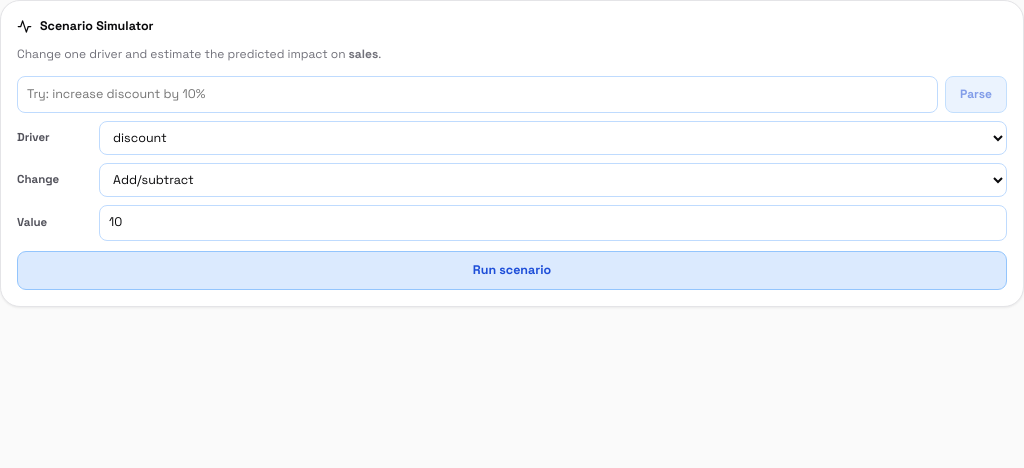
Test case: ScenarioSimulatorCard Component › runs scenario simulation and displays baseline vs scenario impact
Click the button "Run scenario" at (512,270), box [17, 250, 1007, 290]
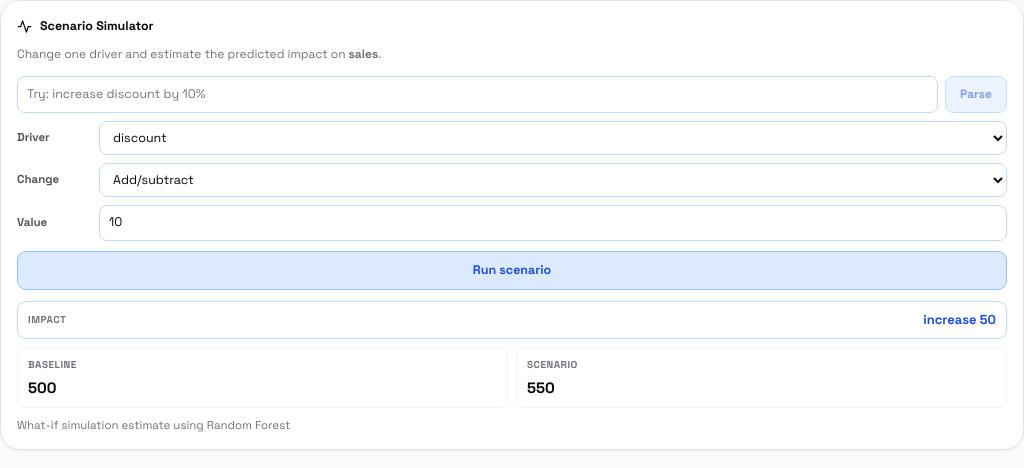
expect the text "increase 50" is shown: met, box [923, 310, 996, 330]
expect the text "500" is shown: met, box [28, 378, 56, 396]
expect the text "550" is shown: met, box [527, 378, 555, 396]
